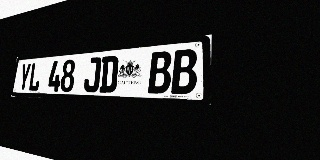4: (47, 60, 63, 92)
8: (60, 59, 76, 92)
B: (171, 48, 198, 94), (148, 51, 172, 94)
D: (99, 55, 119, 93)
J: (83, 57, 102, 92)
L: (28, 62, 42, 91)
Y: (18, 63, 31, 91)
